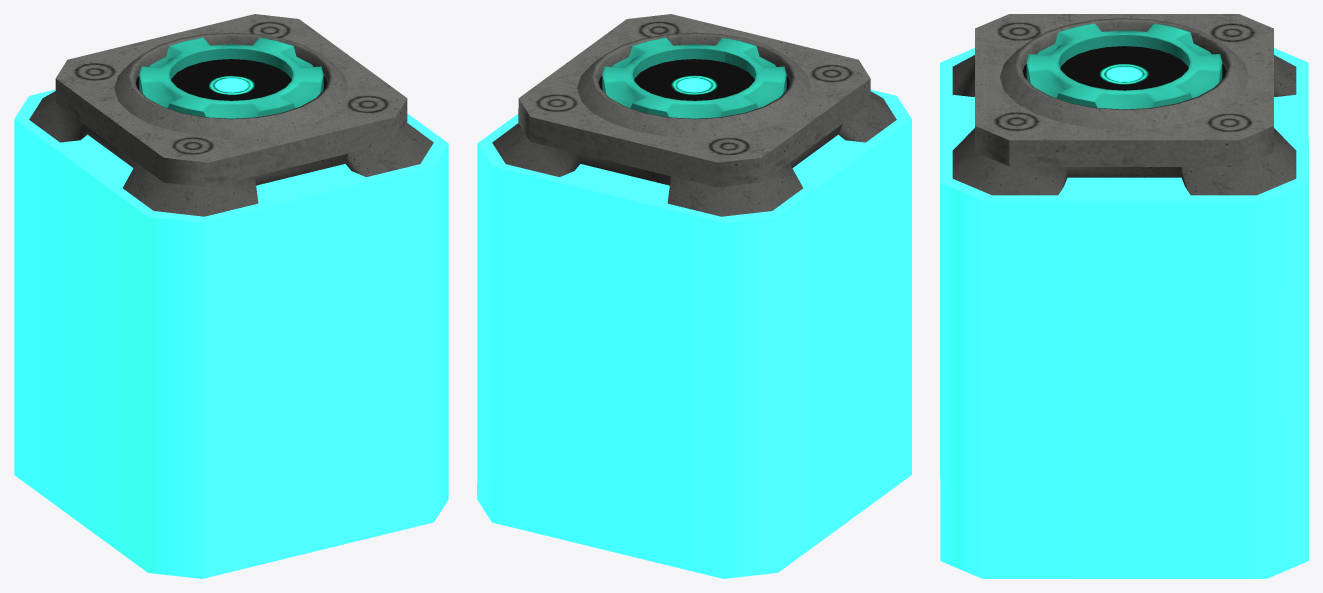
The model's file is block_Green_base.gltf.
3 renders of one model, left to right at view 1: azimuth 30°, elevation 25°; view 2: azimuth 150°, elevation 25°; view 3: azimuth 270°, elevation 25°, orthographic. The views are drawn at different scales.
Parts seen in each view (by area): view 1: block_Green_base; view 2: block_Green_base; view 3: block_Green_base.
Boxes of the visible parts, x1,y1,x2,y2 form: block_Green_base: [14, 14, 448, 578]; block_Green_base: [477, 14, 911, 578]; block_Green_base: [940, 14, 1308, 578].
Size of the model in its own units: 0.3796 by 0.4973 by 0.3792.
Materials: 1 (1 with a texture image).
